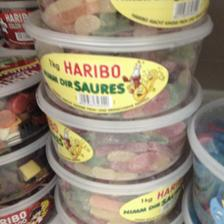Suessigkeit: (24, 15, 214, 119), (32, 93, 208, 178)
